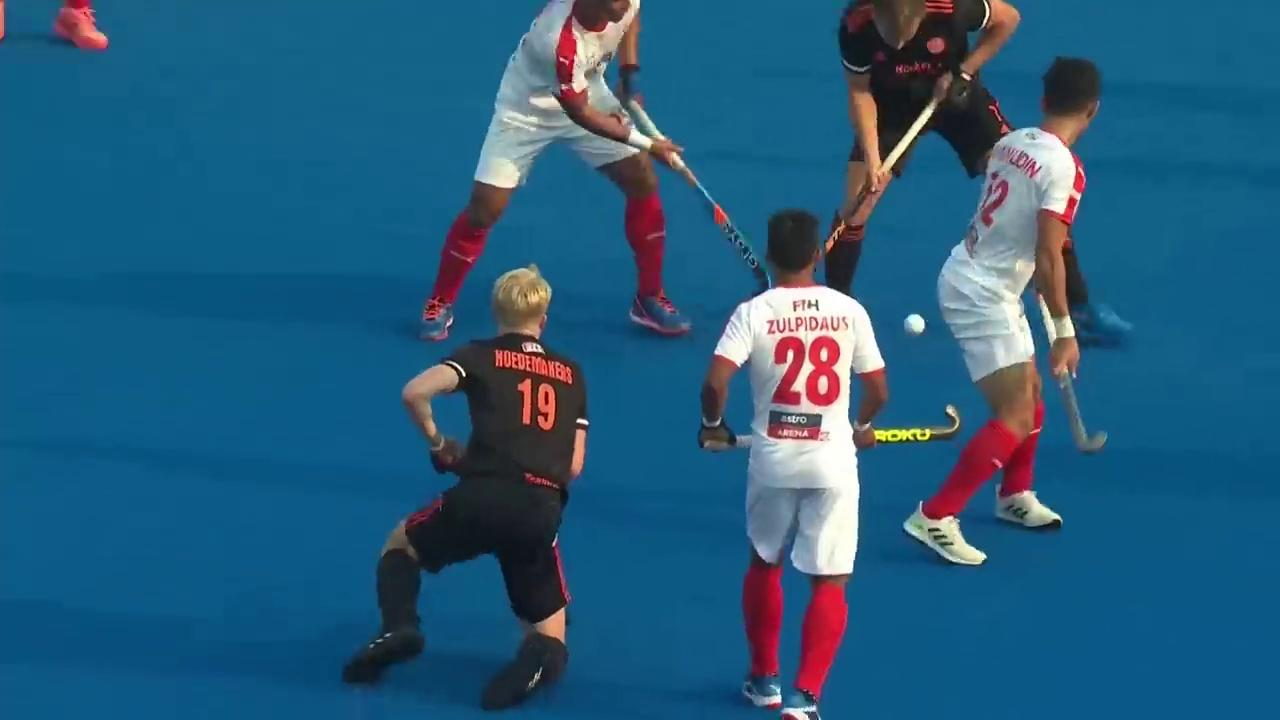ball: (890, 302, 943, 344)
